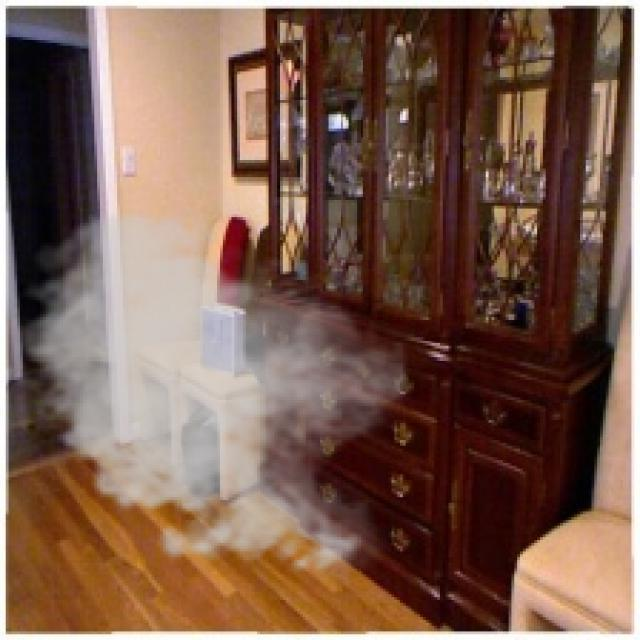Smoke: (6, 203, 408, 586)
